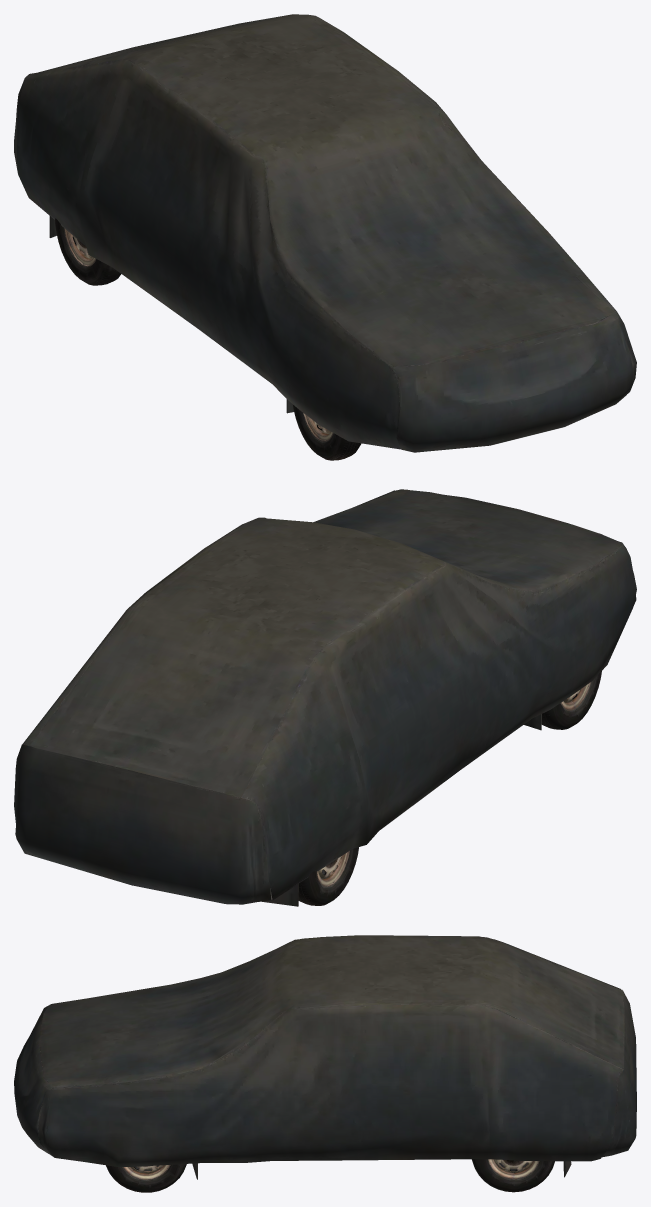
Rendered from covered_car.glb.
The picture shows the model from 3 angles, top to bottom: view 1: azimuth 30°, elevation 25°; view 2: azimuth 150°, elevation 25°; view 3: azimuth 270°, elevation 25°; orthographic projection. The views are drawn at different scales.
Visible parts, largest first — view 1: covered_car, covered_car_wheel_03, covered_car_wheel_02; view 2: covered_car, covered_car_wheel_03, covered_car_wheel_02; view 3: covered_car, covered_car_wheel_04, covered_car_wheel_01.
Boxes of the visible parts, left/top/right/bottom form: covered_car: left=14, top=14, right=636, bottom=452; covered_car_wheel_03: left=55, top=218, right=120, bottom=285; covered_car_wheel_02: left=293, top=405, right=361, bottom=460; covered_car: left=14, top=489, right=636, bottom=906; covered_car_wheel_03: left=298, top=847, right=358, bottom=905; covered_car_wheel_02: left=542, top=671, right=601, bottom=729; covered_car: left=14, top=935, right=636, bottom=1179; covered_car_wheel_04: left=472, top=1159, right=554, bottom=1192; covered_car_wheel_01: left=106, top=1164, right=186, bottom=1192.
Size of the model in its own units: 1.79 by 1.41 by 4.37.
Materials: 1 (1 with a texture image).
